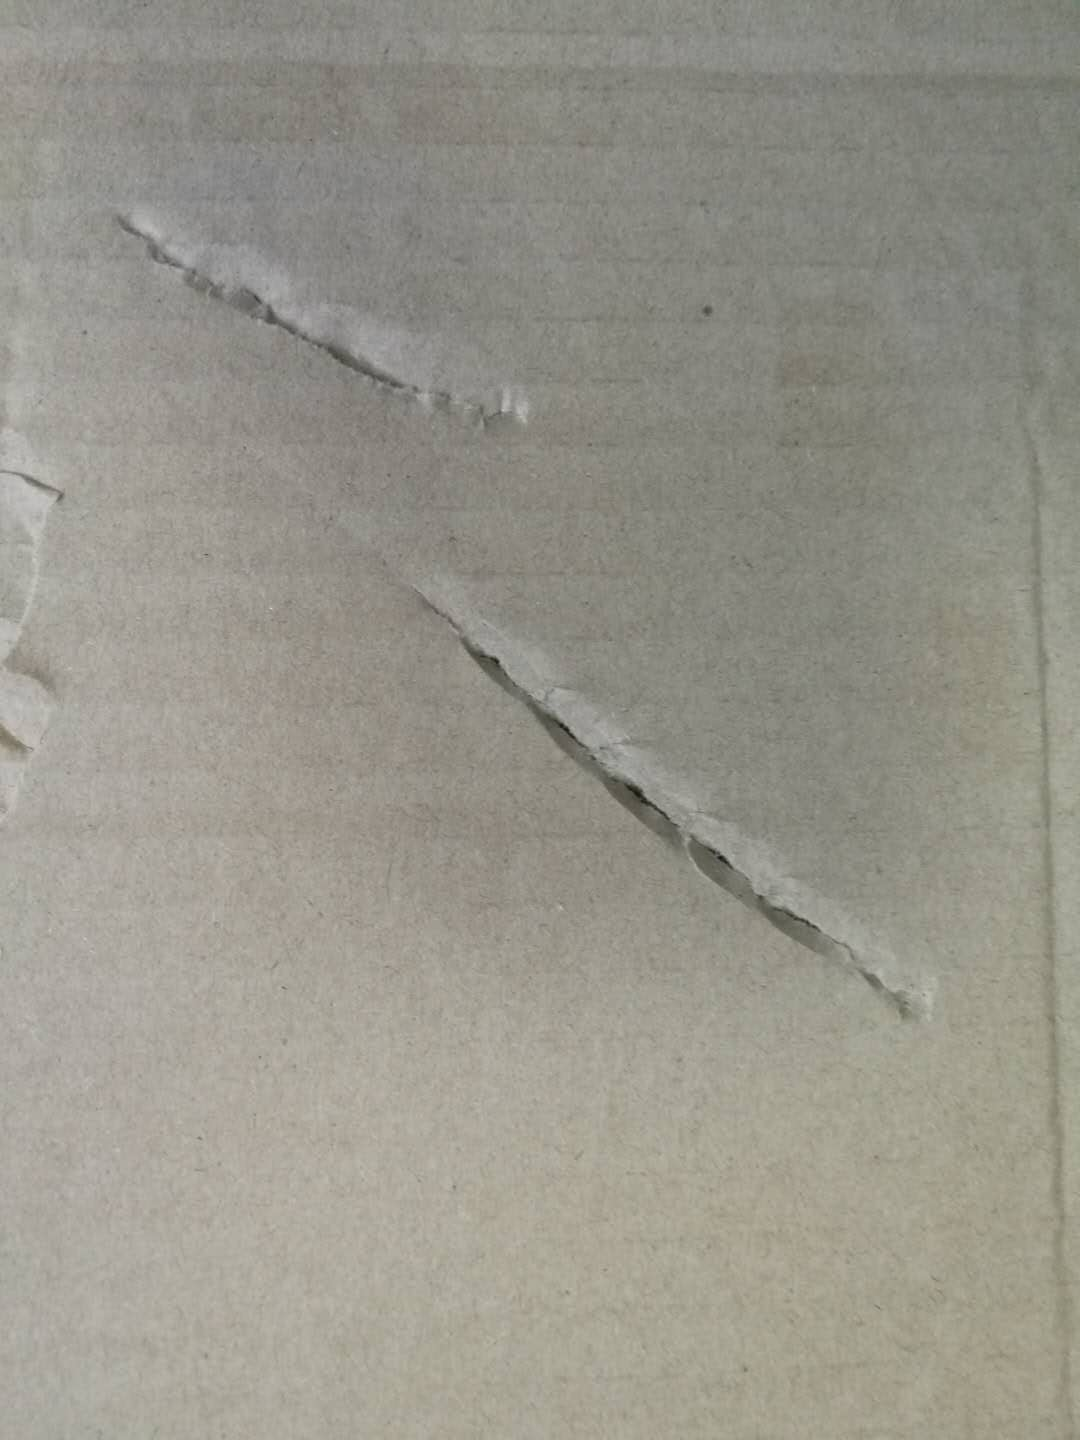defect: (295, 475, 940, 1048), (88, 176, 559, 465), (971, 264, 1080, 1432), (1, 405, 88, 832)
